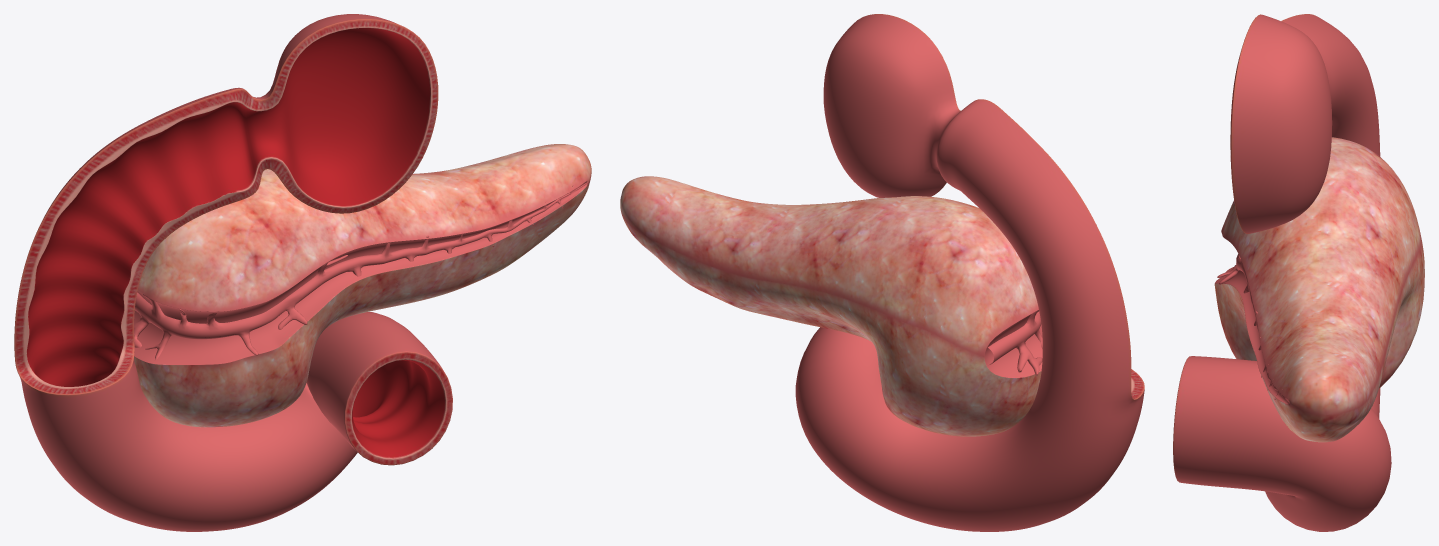
File: pancreas.glb
The picture shows the model from 3 angles, left to right: view 1: azimuth 30°, elevation 25°; view 2: azimuth 150°, elevation 25°; view 3: azimuth 270°, elevation 25°; orthographic projection. The views are drawn at different scales.
Parts seen in each view (by area): view 1: pCube3, polySurface1, sweep1; view 2: pCube3, polySurface1, sweep1; view 3: pCube3, polySurface1, sweep1.
Part boxes in pixels (<box>): pCube3: <box>14,14,452,531</box>; polySurface1: <box>134,144,591,427</box>; sweep1: <box>134,182,588,359</box>; pCube3: <box>795,14,1144,531</box>; polySurface1: <box>620,176,1042,436</box>; sweep1: <box>988,310,1042,375</box>; pCube3: <box>1173,14,1391,531</box>; polySurface1: <box>1214,137,1424,442</box>; sweep1: <box>1217,253,1289,403</box>.
Bounding box in the file's own units: 0.1967 × 0.1682 × 0.0726.
Materials: 1 (1 with a texture image).
